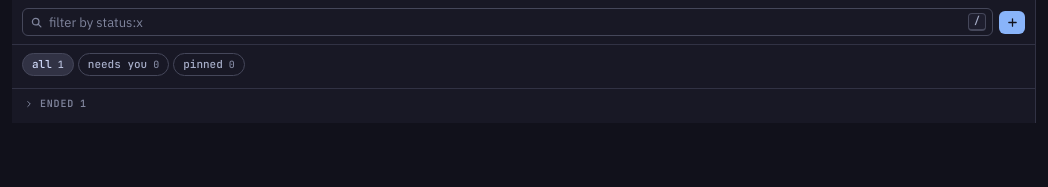
Test: expanding "ended" reveals the finished rows, visibly muted
Click the button "ended 1". click: (57, 104)
box: [12,89,1035,115]
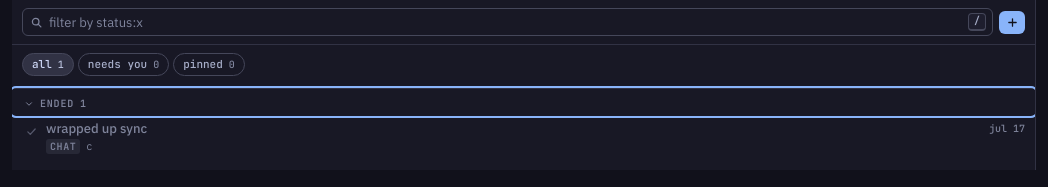
Expected: the button "wrapped up sync jul 17 chat c" is shown, [12,115,1035,162]
